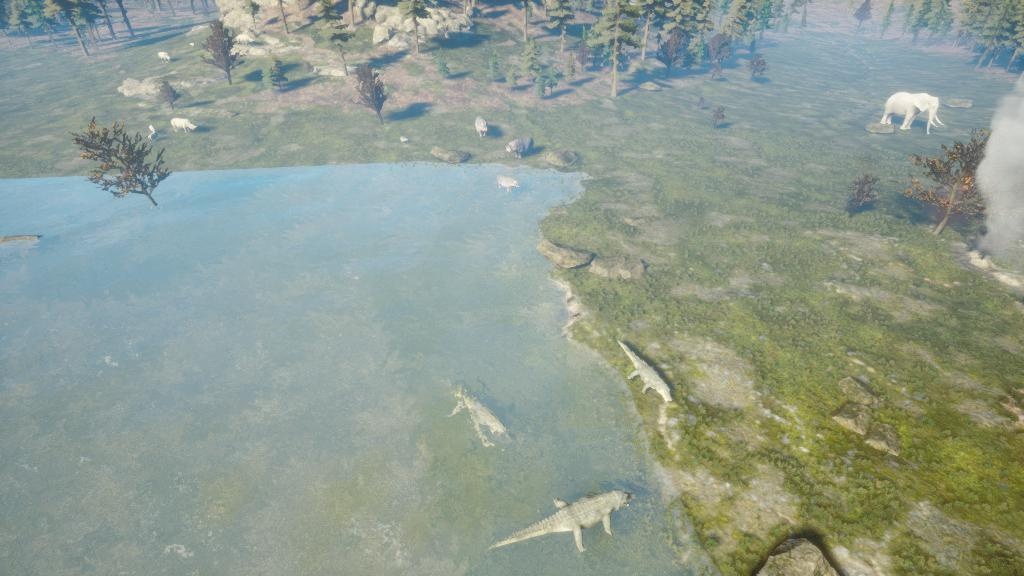crocodile: (482, 484, 644, 568), (432, 367, 532, 465), (606, 335, 690, 414)
elephant: (879, 87, 949, 136)
hippopotamus: (503, 135, 538, 162), (492, 172, 526, 198), (472, 114, 494, 139)
rhinoceros: (170, 116, 202, 137), (154, 48, 177, 65), (148, 124, 158, 134)
smoke: (973, 66, 1023, 302)
